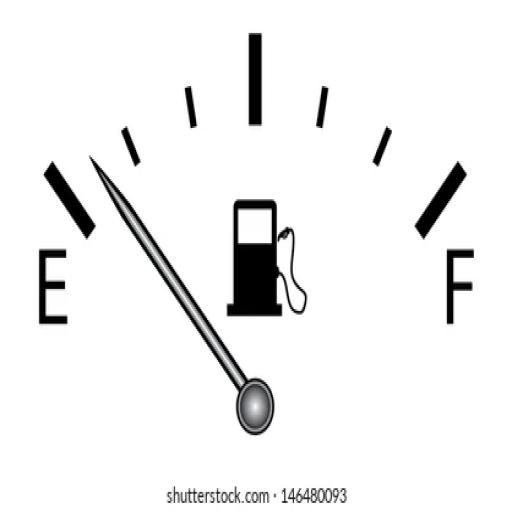empty: (35, 243, 69, 330)
fuel_icon: (227, 194, 308, 319)
full: (444, 243, 476, 324)
guage_area: (34, 25, 482, 442)
needle_center: (226, 369, 279, 438)
needle_tip: (86, 148, 124, 211)
